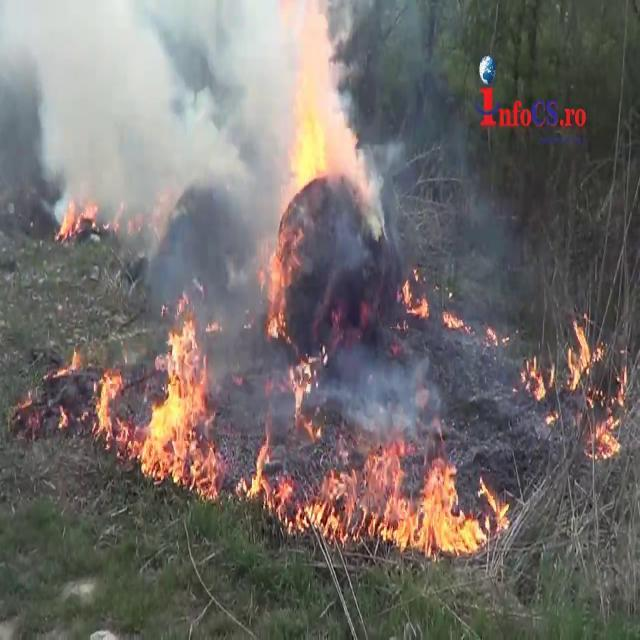Fire: (276, 2, 380, 240), (370, 443, 510, 565), (137, 300, 221, 497), (522, 306, 626, 456), (239, 440, 348, 542), (89, 363, 129, 453), (56, 188, 102, 245)
Smoke: (0, 0, 54, 242)
